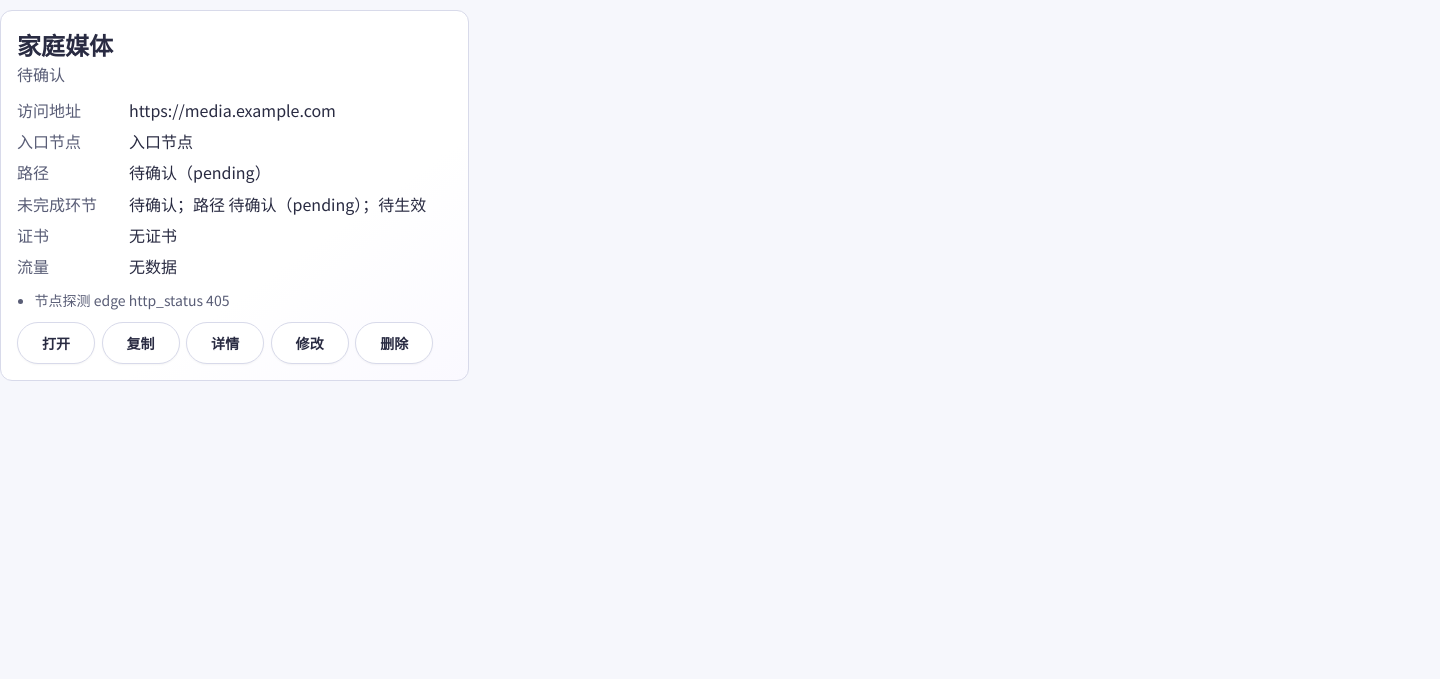
it: service page › keeps user confirmation apart from the node probe
Click the button "详情".
click(225, 343)  # box [186,322,264,364]
(page scrolled)
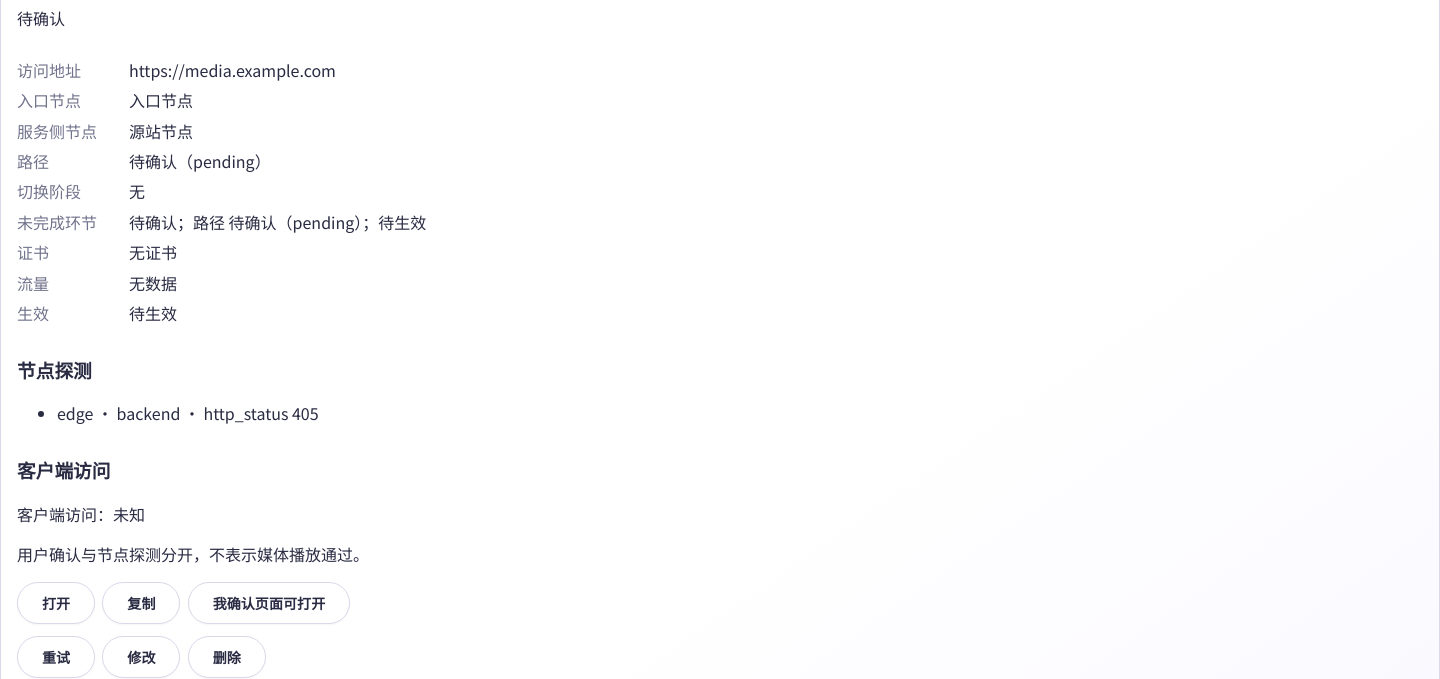
Expected: the list item with test id "probe-row" shows "http_status 405", [180,401,319,425]
Expected: the element with test id "client-confirmation" shows "客户端访问：未知", [17,502,145,526]
Expected: the element with test id "service-detail" shows "不表示媒体播放通过", [17,542,369,566]
Click the button "我确认页面可打开".
click(269, 603)  # box [188,582,350,624]
(page scrolled)
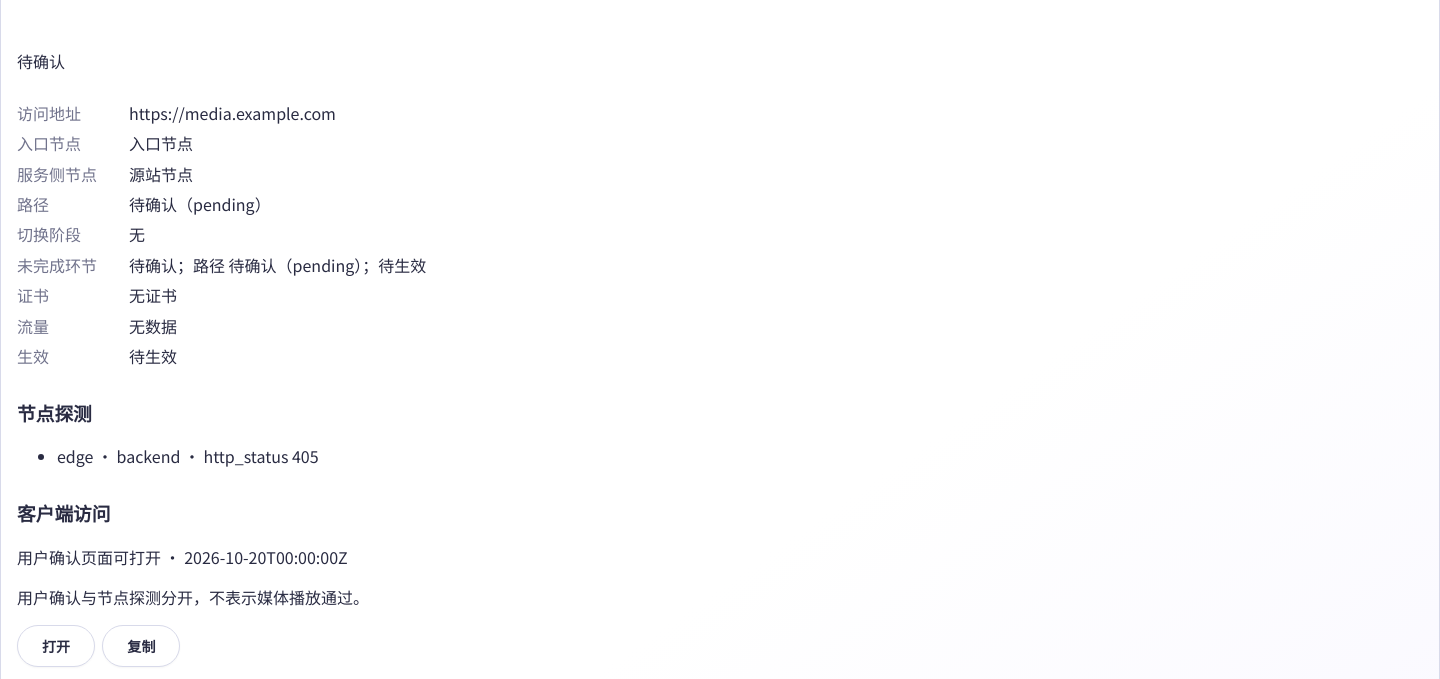
Expected: the list item with test id "probe-row" shows "http_status 405", [180,444,319,468]
Expected: the element with test id "service-detail" shows "不表示媒体播放通过", [17,585,369,609]
Expected: the element with test id "service-detail" shows "用户确认页面可打开", [17,545,165,569]
